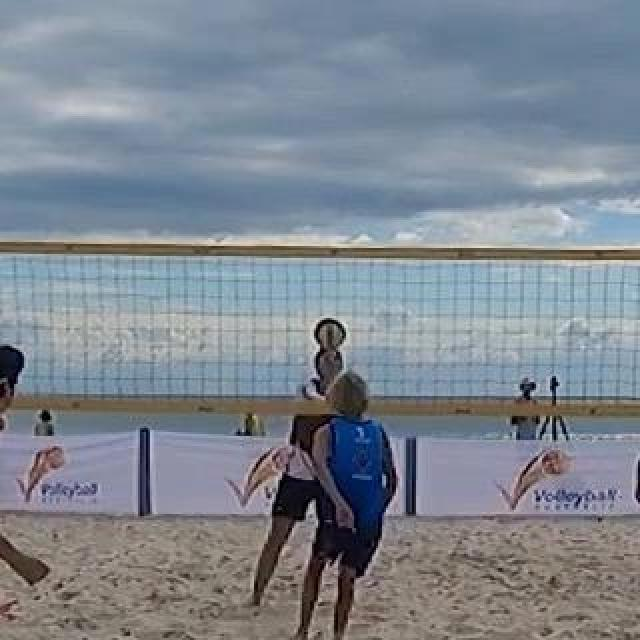volleyball: (313, 318, 345, 352)
